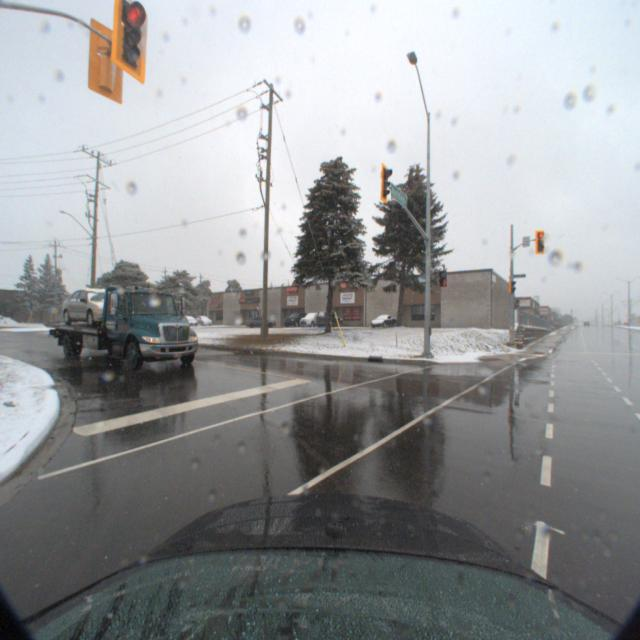Car: (369, 309, 399, 325), (246, 308, 278, 323), (298, 306, 326, 323), (315, 306, 343, 323), (192, 308, 212, 320)
Truck: (19, 262, 213, 374)
